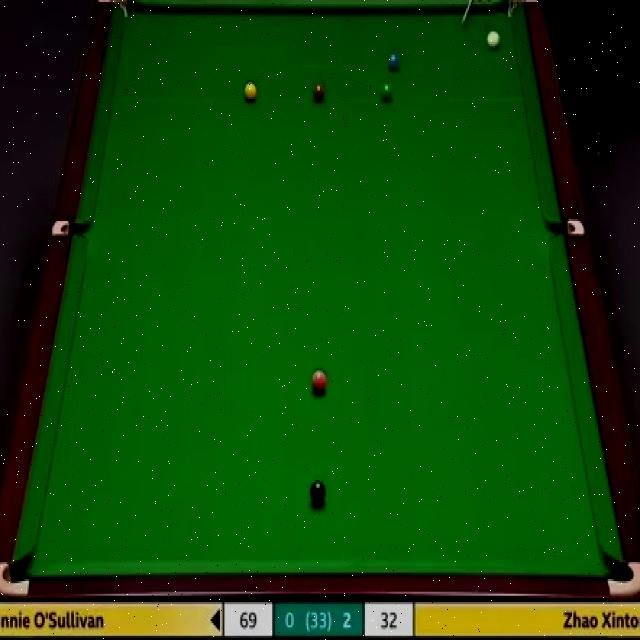black-ball: (310, 479, 326, 506)
blue-ball: (387, 51, 401, 71)
brown-ball: (312, 85, 326, 102)
green-ball: (380, 80, 394, 105)
pink-ball: (310, 368, 328, 397)
white-ball: (486, 32, 500, 49)
yellow-ball: (243, 81, 258, 103)
